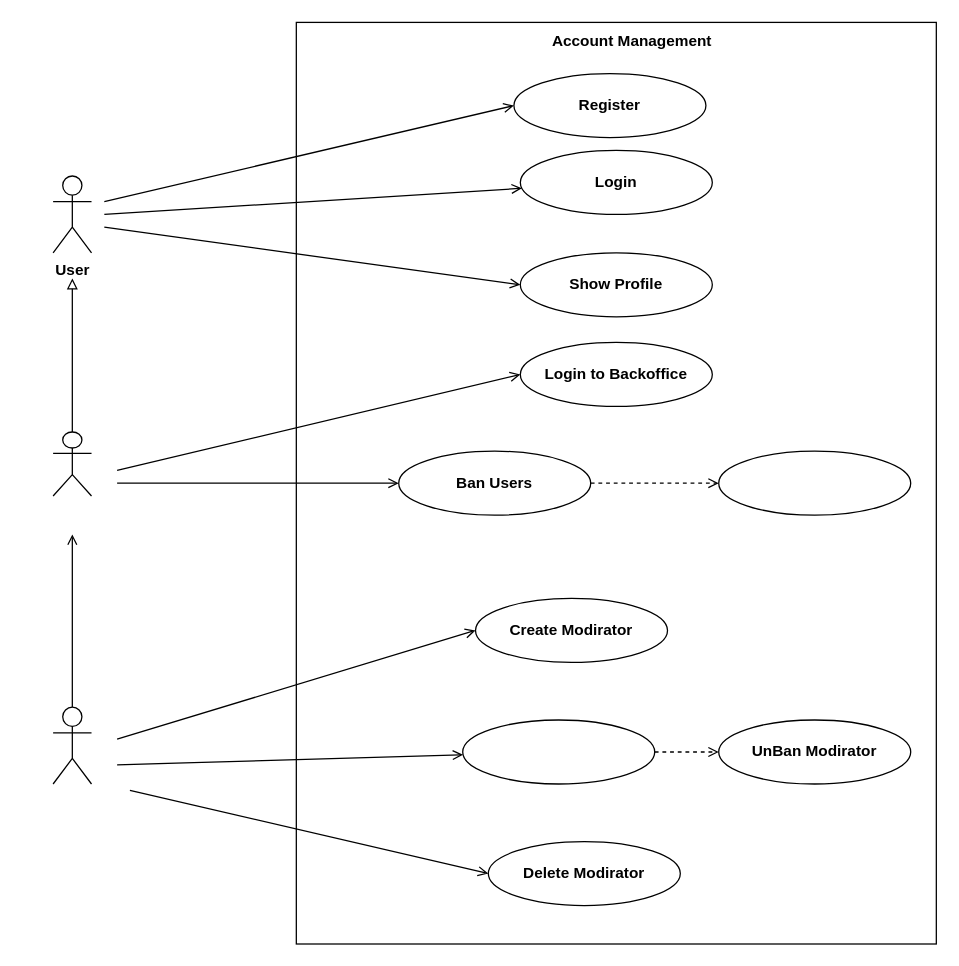
Some shapes in this 959 by 966 pixel diagram are drawn without their labels. Each missing label, with the centre of its shape:
"Administrator" goes at (72,745).
"Ban Modirator" goes at (558,751).
"Modirator" goes at (72,463).
"UnBan Users" goes at (814,482).
